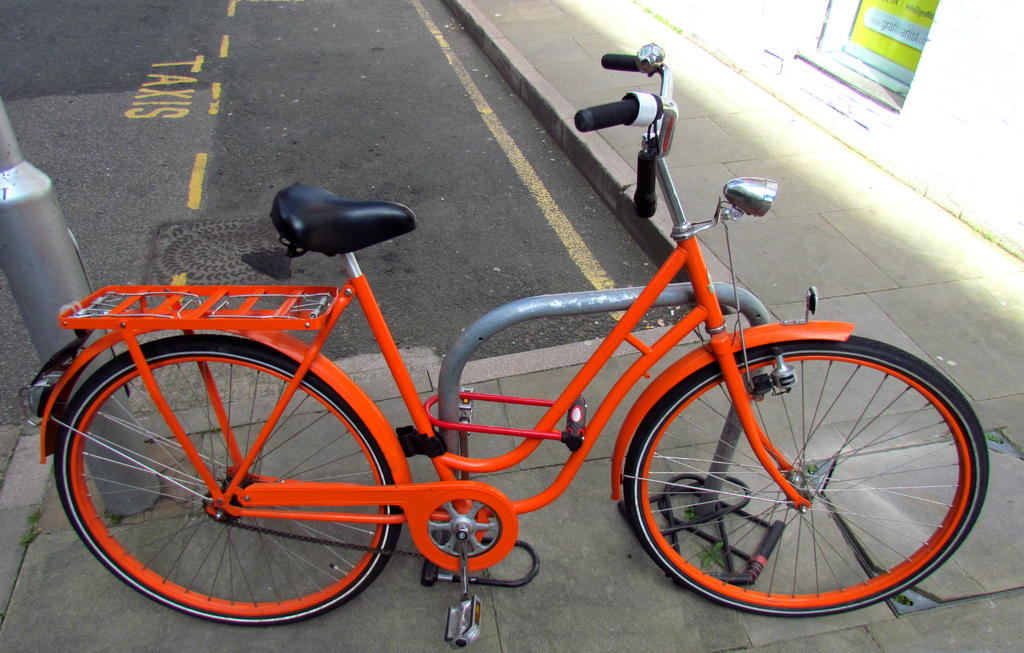Bike_toward: (59, 169, 928, 653)
